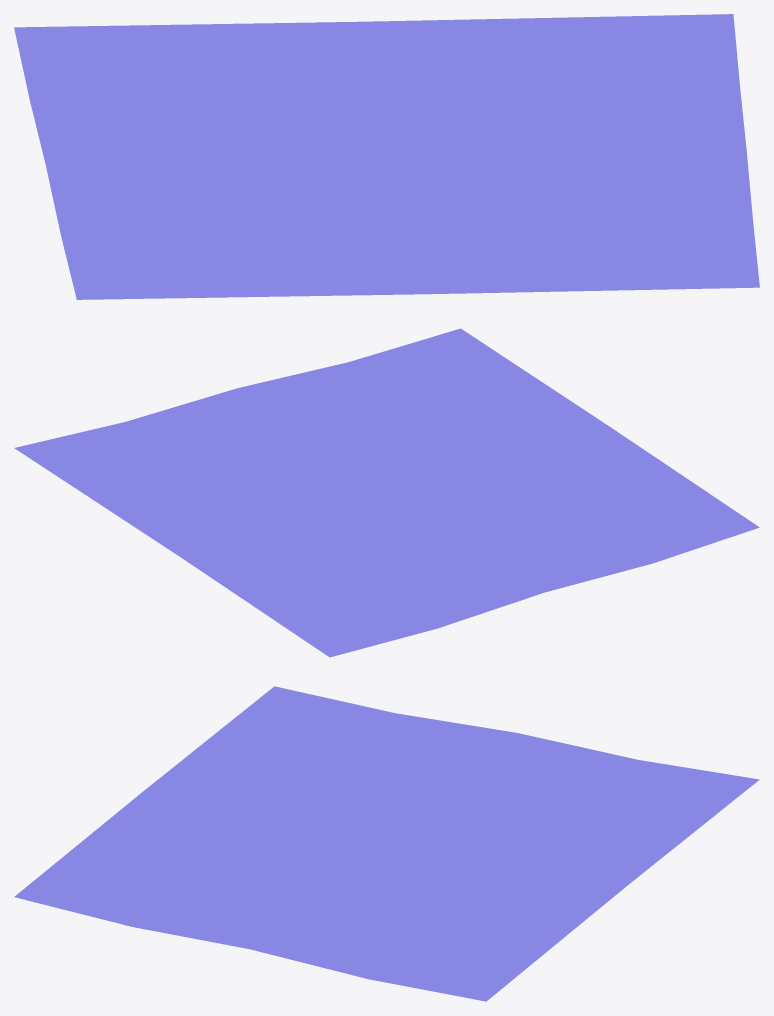
The model's file is track_la_coll_road_23.fbx.
3 views of the same model, one above another, from view 1: azimuth 30°, elevation 25°; view 2: azimuth 150°, elevation 25°; view 3: azimuth 270°, elevation 25° (orthographic). The views are drawn at different scales.
Parts seen in each view (by area): view 1: track_la_coll_road_23; view 2: track_la_coll_road_23; view 3: track_la_coll_road_23.
Boxes of the visible parts, left/top/right/bottom form: track_la_coll_road_23: left=14, top=14, right=759, bottom=299; track_la_coll_road_23: left=14, top=328, right=759, bottom=657; track_la_coll_road_23: left=14, top=686, right=759, bottom=1001.
Bounding box in the file's own units: 74.52 × 0.4061 × 74.49.
